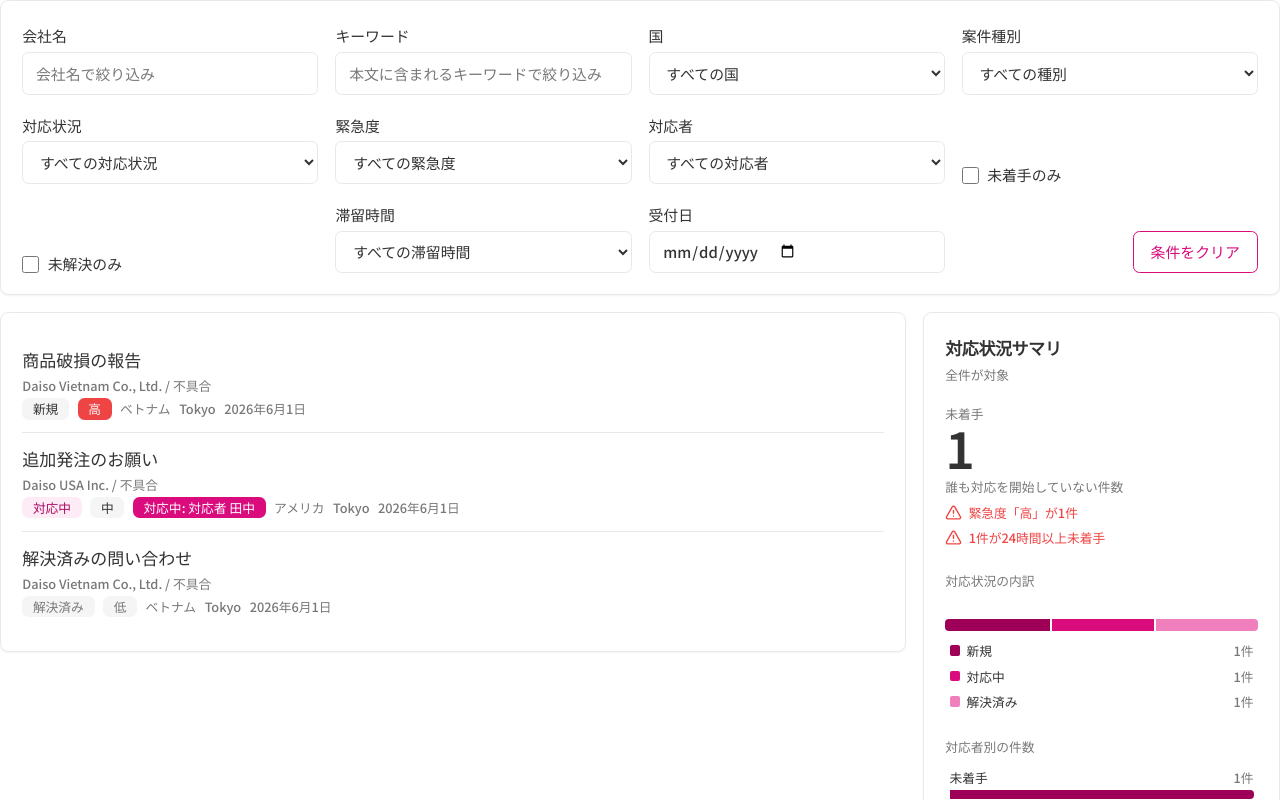
Scenario: HelpdeskInquiryListClient › サマリパネルの未着手ヒーロー数値をクリックすると一覧が絞り込まれ、未着手のみチェックが同期する
Click the button "1". click: (960, 447)
box: [941,422,979,473]
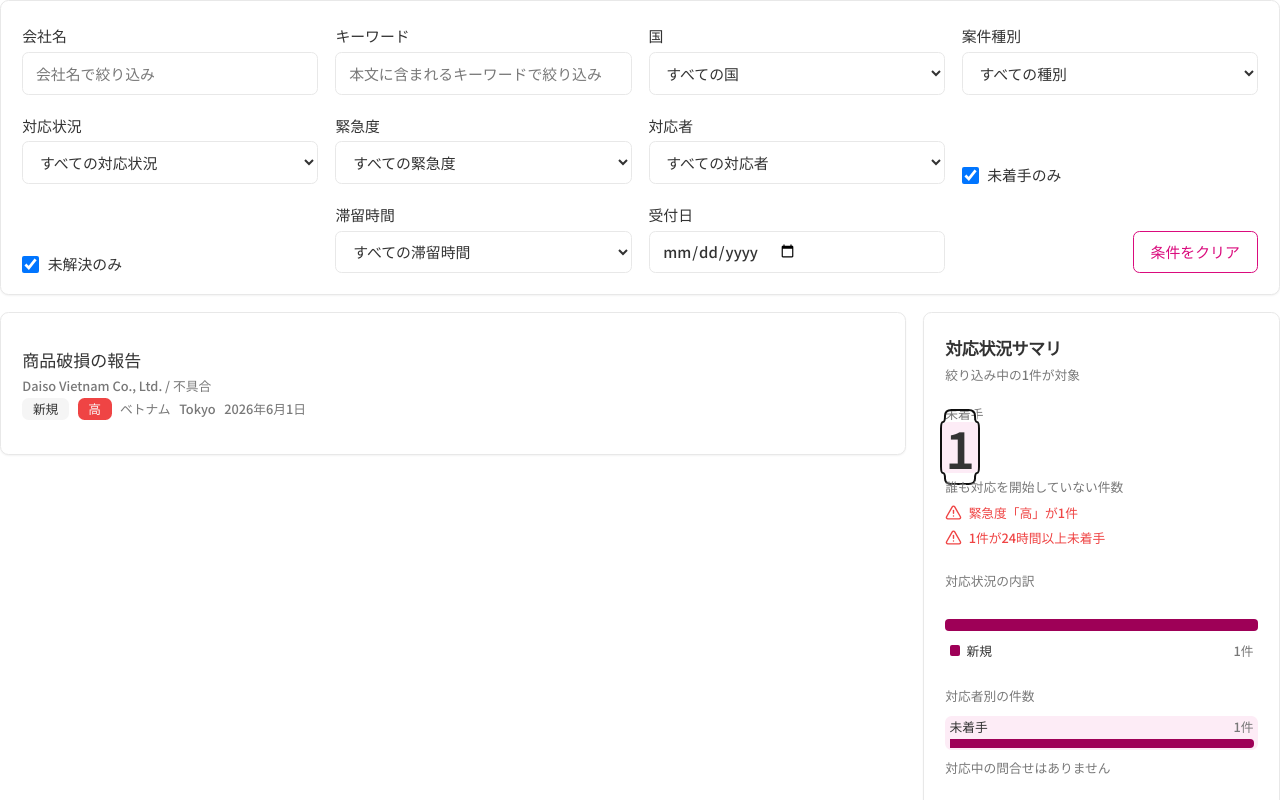
Expected: the link "商品破損の報告" is shown, [22,347,141,372]
Expected: the link "追加発注のお願い" is gone
Expected: the checkbox labelled "未着手のみ" is checked, [962,167,979,184]
